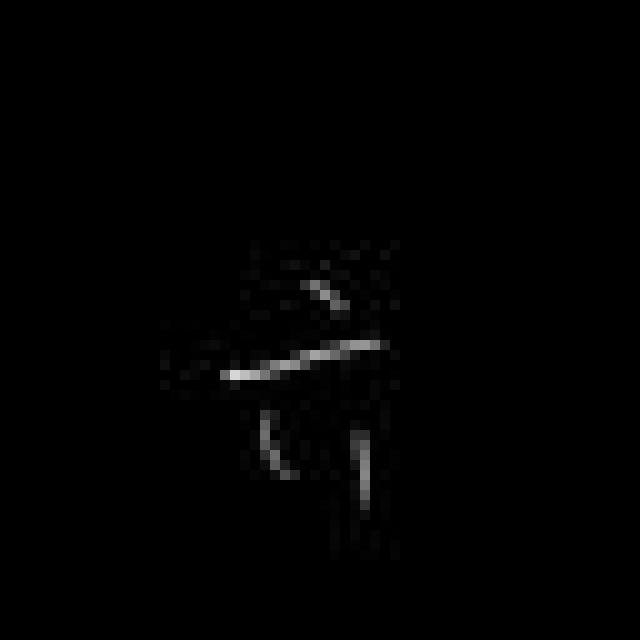6 -six-: (208, 271, 388, 512)
